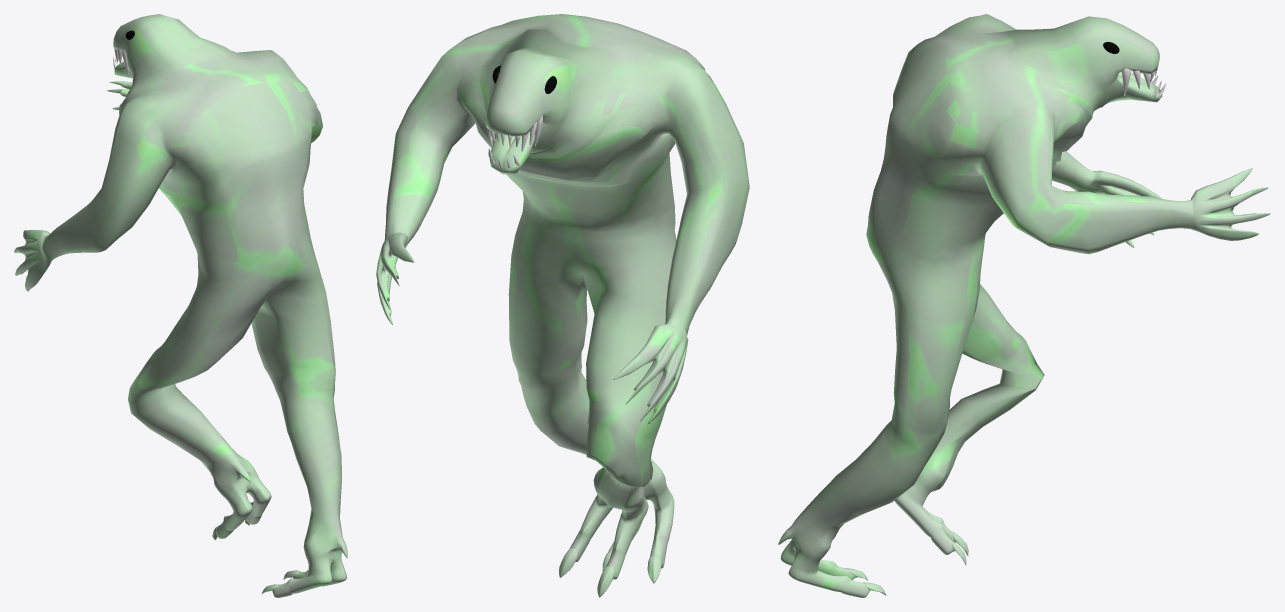
File: Berserkercorrer.0042.obj
The picture shows the model from 3 angles, left to right: view 1: azimuth 30°, elevation 25°; view 2: azimuth 150°, elevation 25°; view 3: azimuth 270°, elevation 25°; orthographic projection. The views are drawn at different scales.
Visible parts, largest first — view 1: polySurface27; view 2: polySurface27; view 3: polySurface27.
Part boxes in pixels (bbox=[...]): polySurface27: bbox=[14, 14, 347, 597]; polySurface27: bbox=[376, 14, 749, 597]; polySurface27: bbox=[778, 14, 1270, 597].
Bounding box in the file's own units: 11.67 × 21.83 × 17.44.
1 material, 1 textured.
